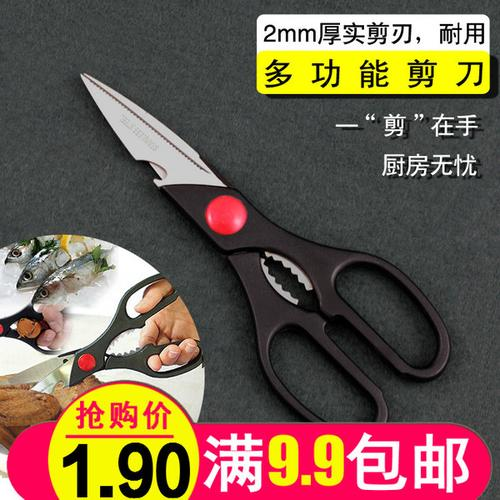scissor: (79, 71, 451, 423)
